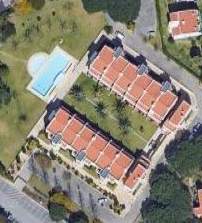pool: (36, 60, 67, 89)
